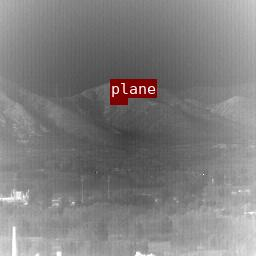plane: (110, 98, 127, 104)
